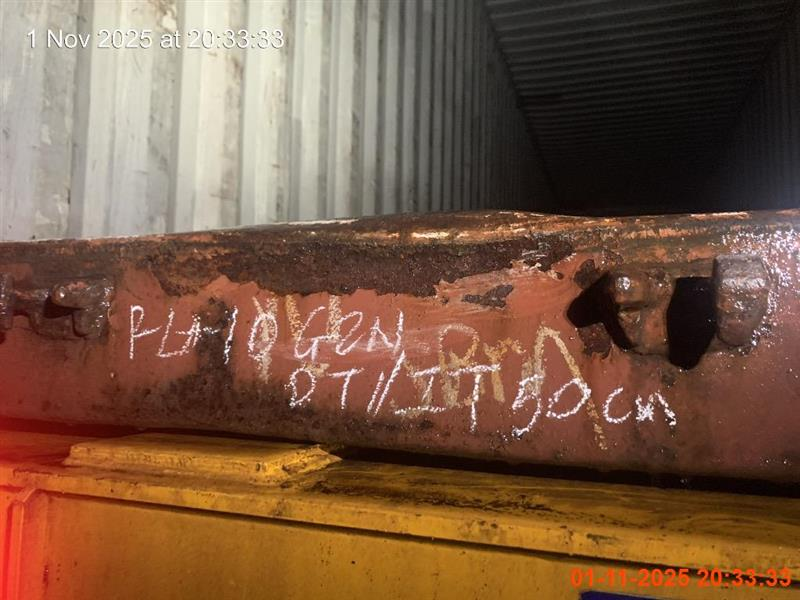dent: (1, 423, 796, 598)
